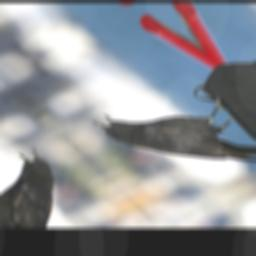Crow: (88, 71, 256, 204)
